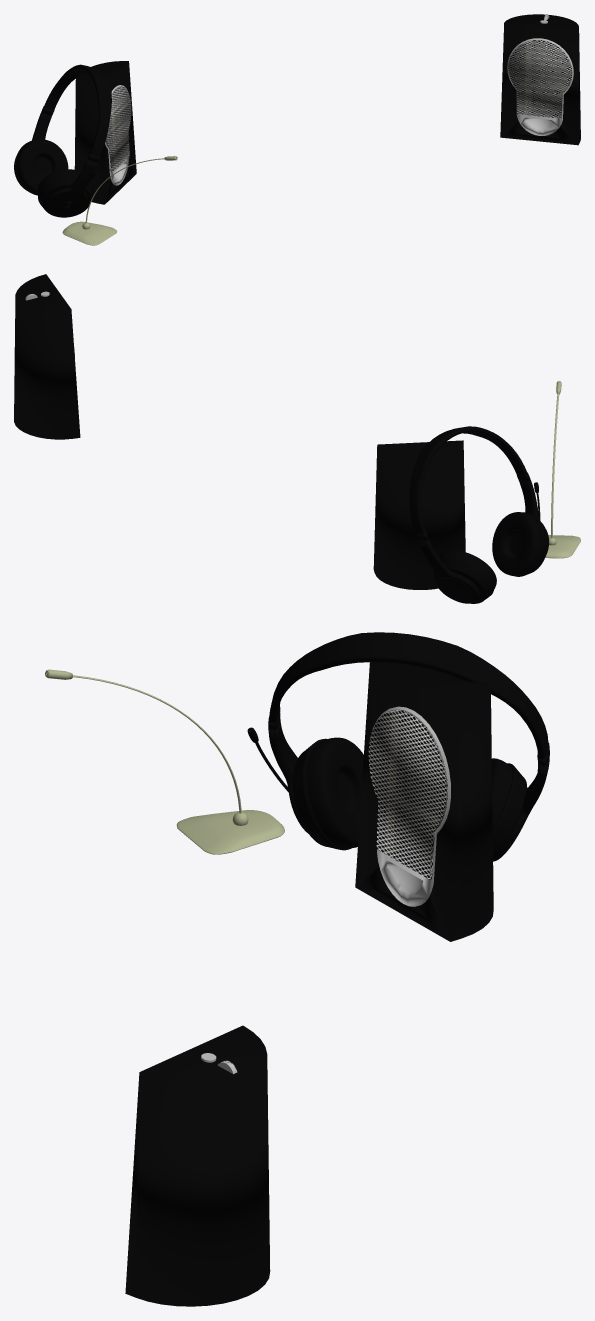
Rendered from NSAssistenza.gltf.
The picture shows the model from 3 angles, top to bottom: view 1: azimuth 30°, elevation 25°; view 2: azimuth 150°, elevation 25°; view 3: azimuth 270°, elevation 25°; orthographic projection. The views are drawn at different scales.
Parts seen in each view (by area): view 1: Bianco Microfono; view 2: Bianco Microfono; view 3: Bianco Microfono.
Part boxes in pixels (<box>): Bianco Microfono: <box>14,14,580,245</box>; Bianco Microfono: <box>14,274,580,603</box>; Bianco Microfono: <box>45,632,549,1306</box>.
Size of the model in its own units: 0.7563 by 0.1872 by 0.333.
5 materials, 1 textured.
